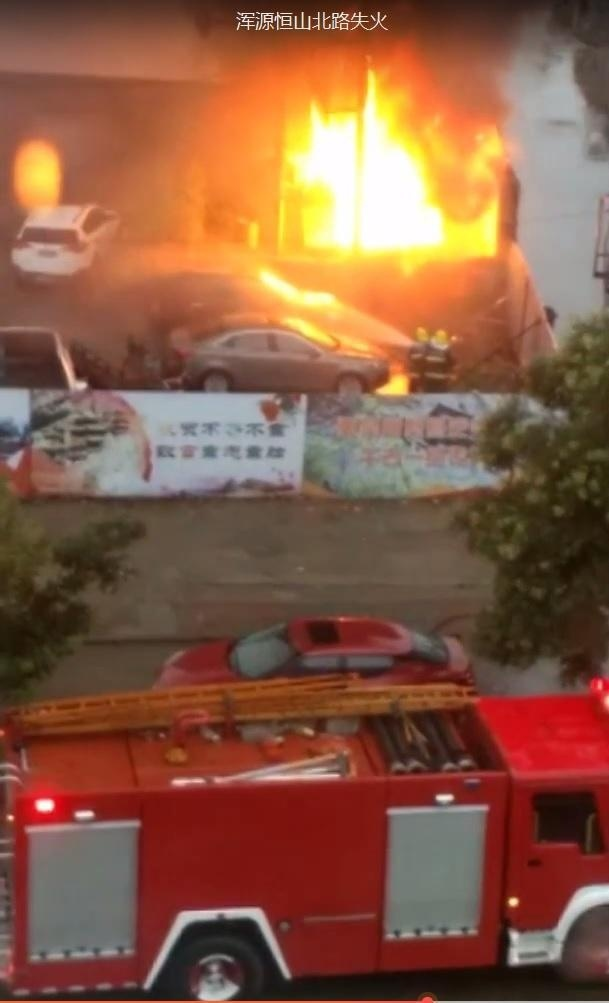fire: (286, 78, 456, 258)
